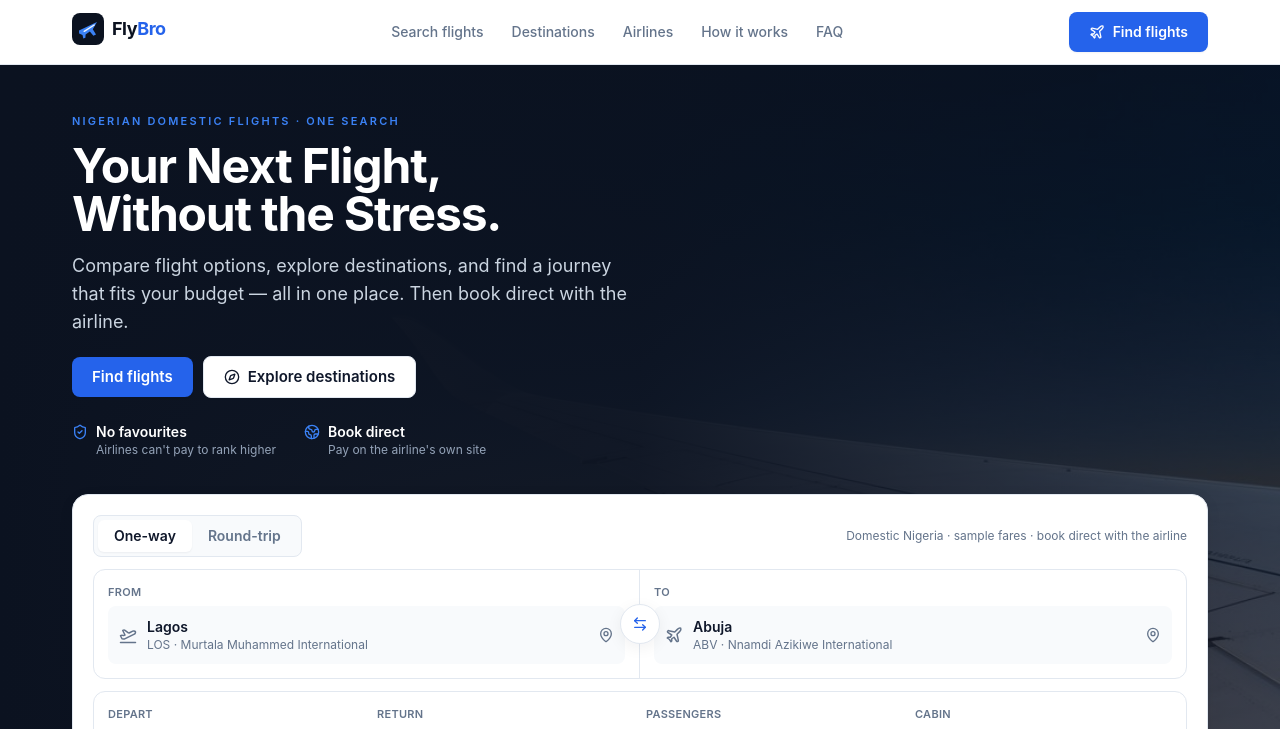
Test: FlyBro demo — product flows › shows an empty state when no sample flights match the route
The width and height of the screenshot is (1280, 729).
Note: LOS → JOS has no route table entry, so the sample dataset is empty.
Click the button with aria-label "to:" at (713, 626), box [654,606,1172,664]
(page scrolled)
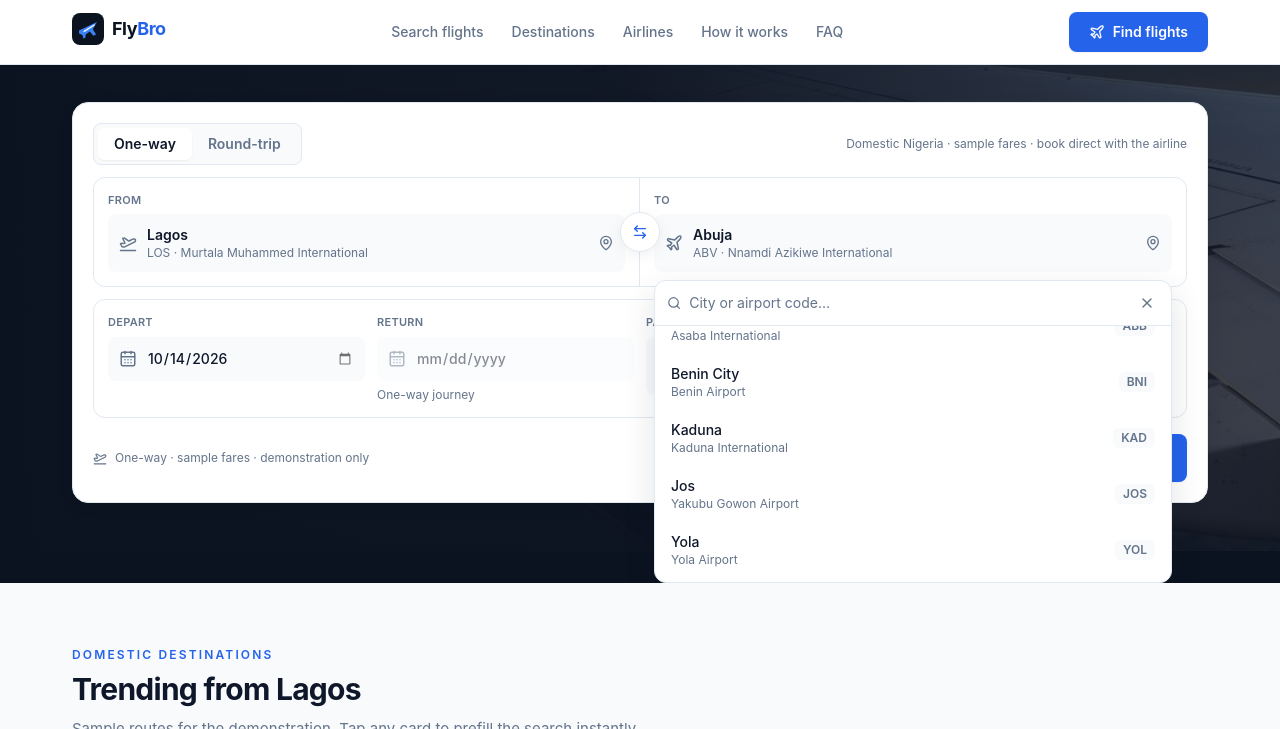
Click the button "Jos Yakubu Gowon Airport JOS" at (735, 504), box [655,466,1171,522]
(page scrolled)
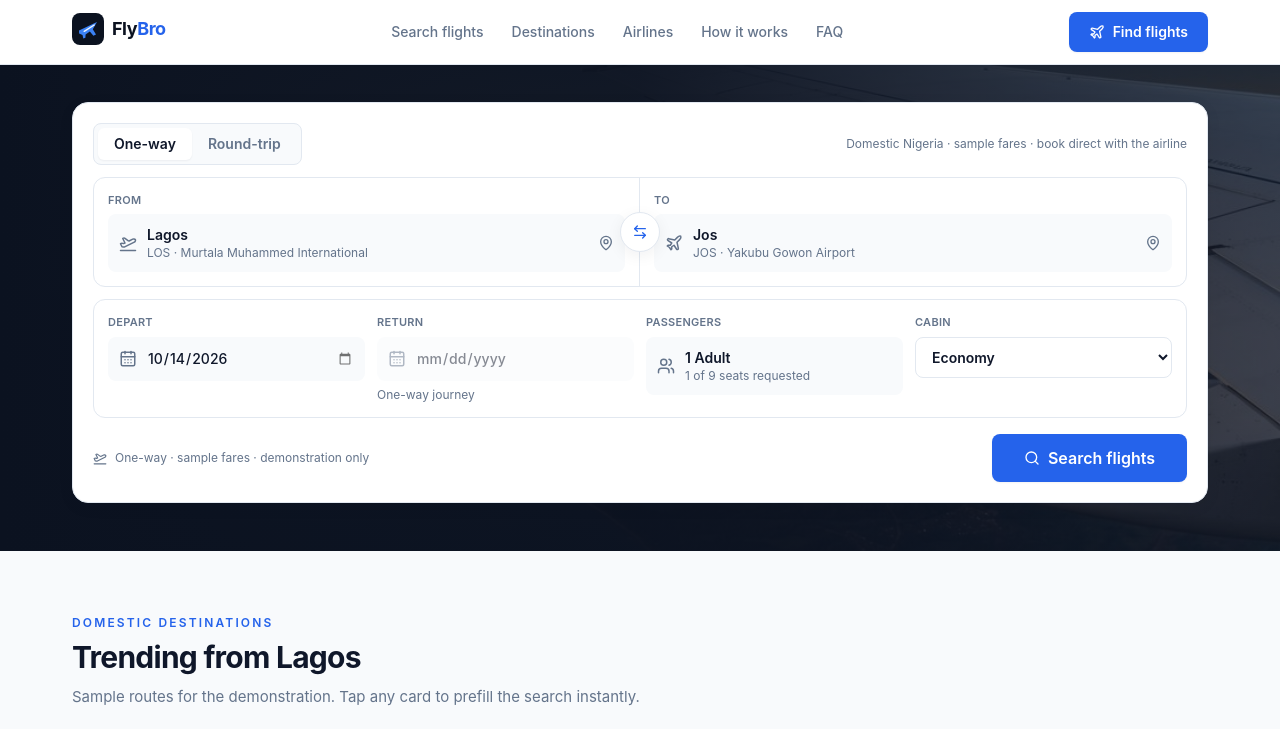
Click the button "Search flights" below "Cabin" at (1089, 458), box [992,434,1187,482]
(page scrolled)
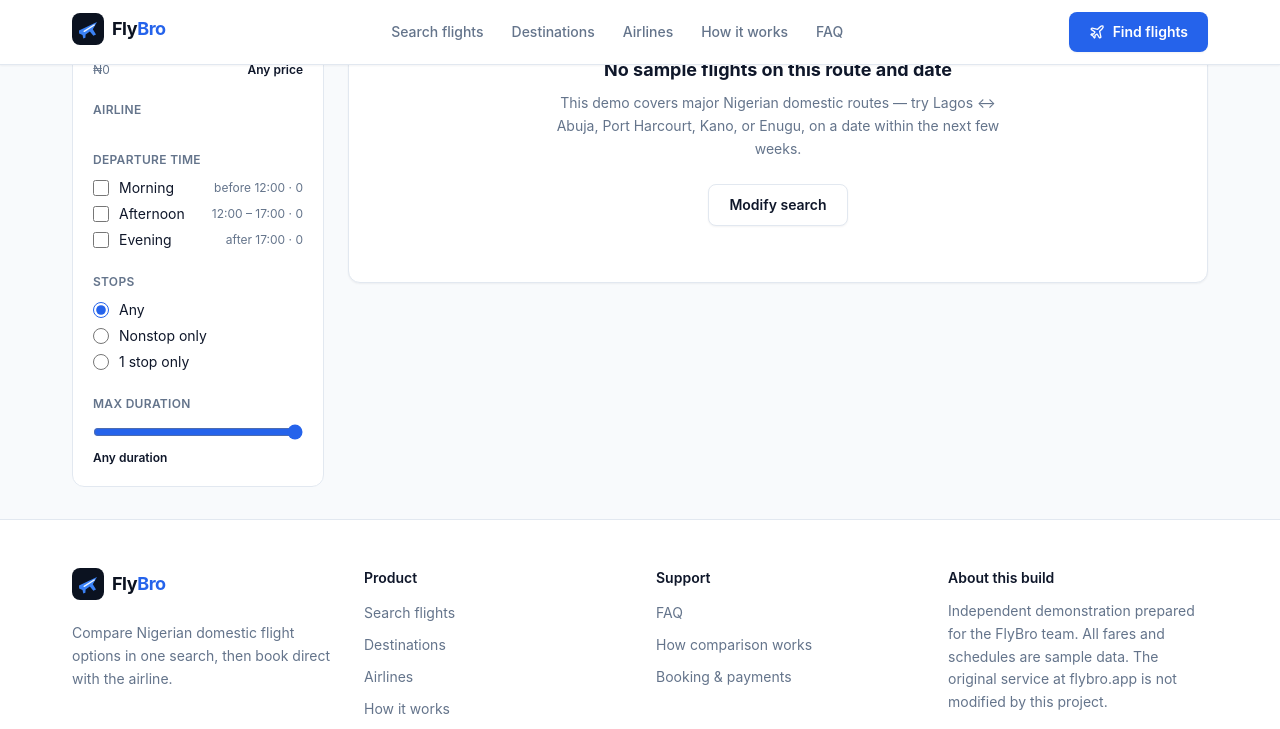
Result: the heading "No sample flights on this route and date" is shown at [604,56,952,84]
